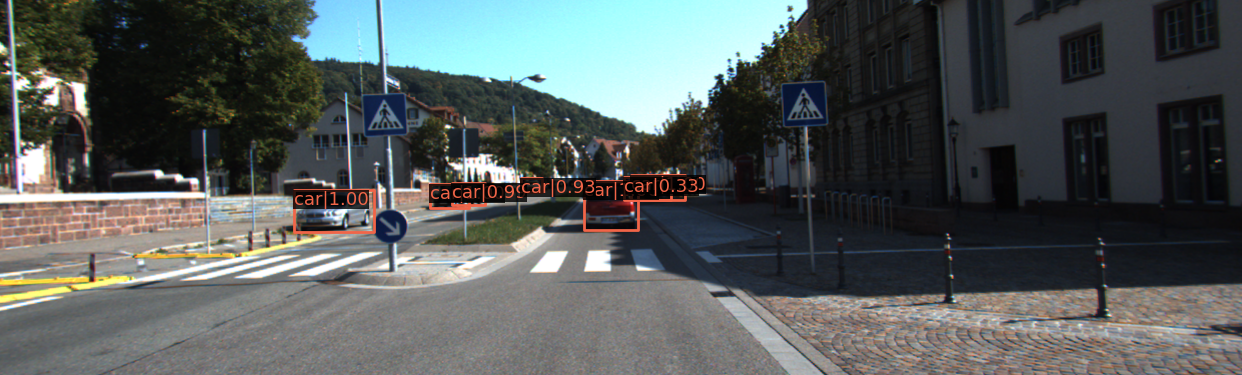car: (295, 194, 376, 231), (586, 182, 637, 231), (642, 178, 692, 200), (434, 189, 470, 211), (450, 186, 483, 207)
